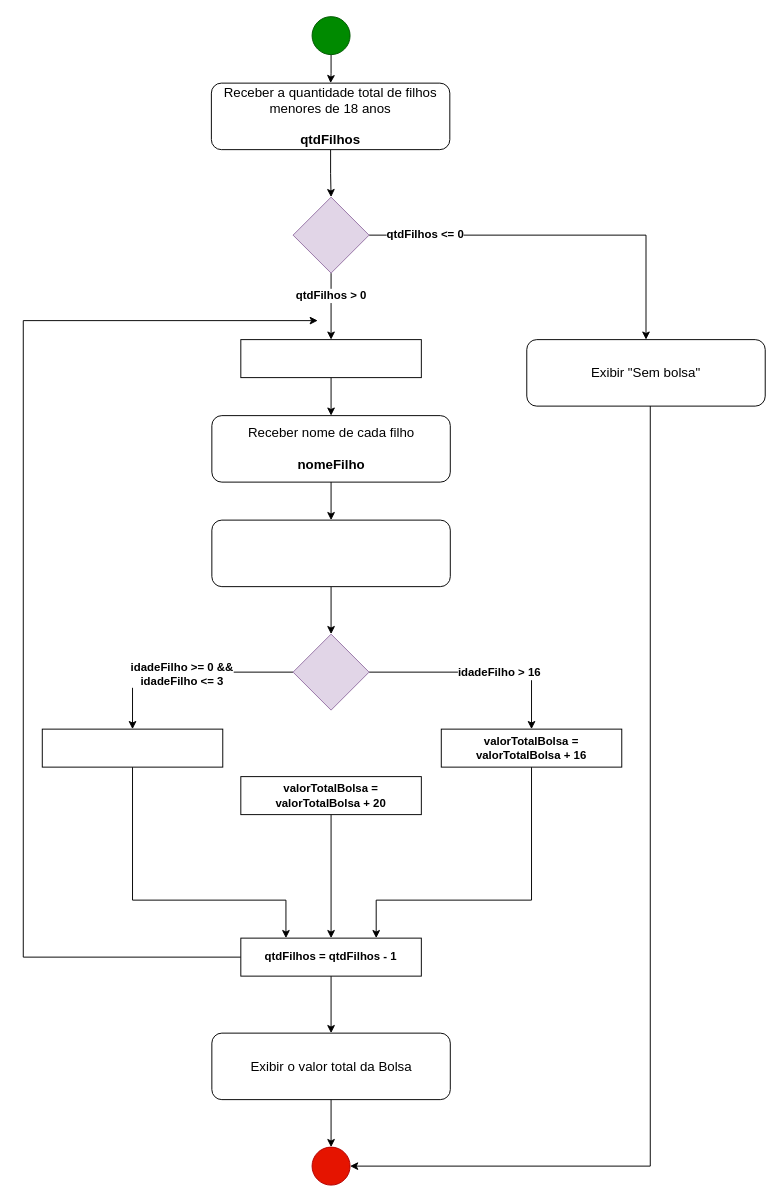
This 782x1202 diagram has some shape labels left out. The centre of each missing label's shape, as x and y in pixels:
qtdFilhos >= 0: pixel 330 358
Receber a idade de cada filho idadeFilho: pixel 330 553
valorTotalBolsa = valorTotalBolsa + 25: pixel 132 747
